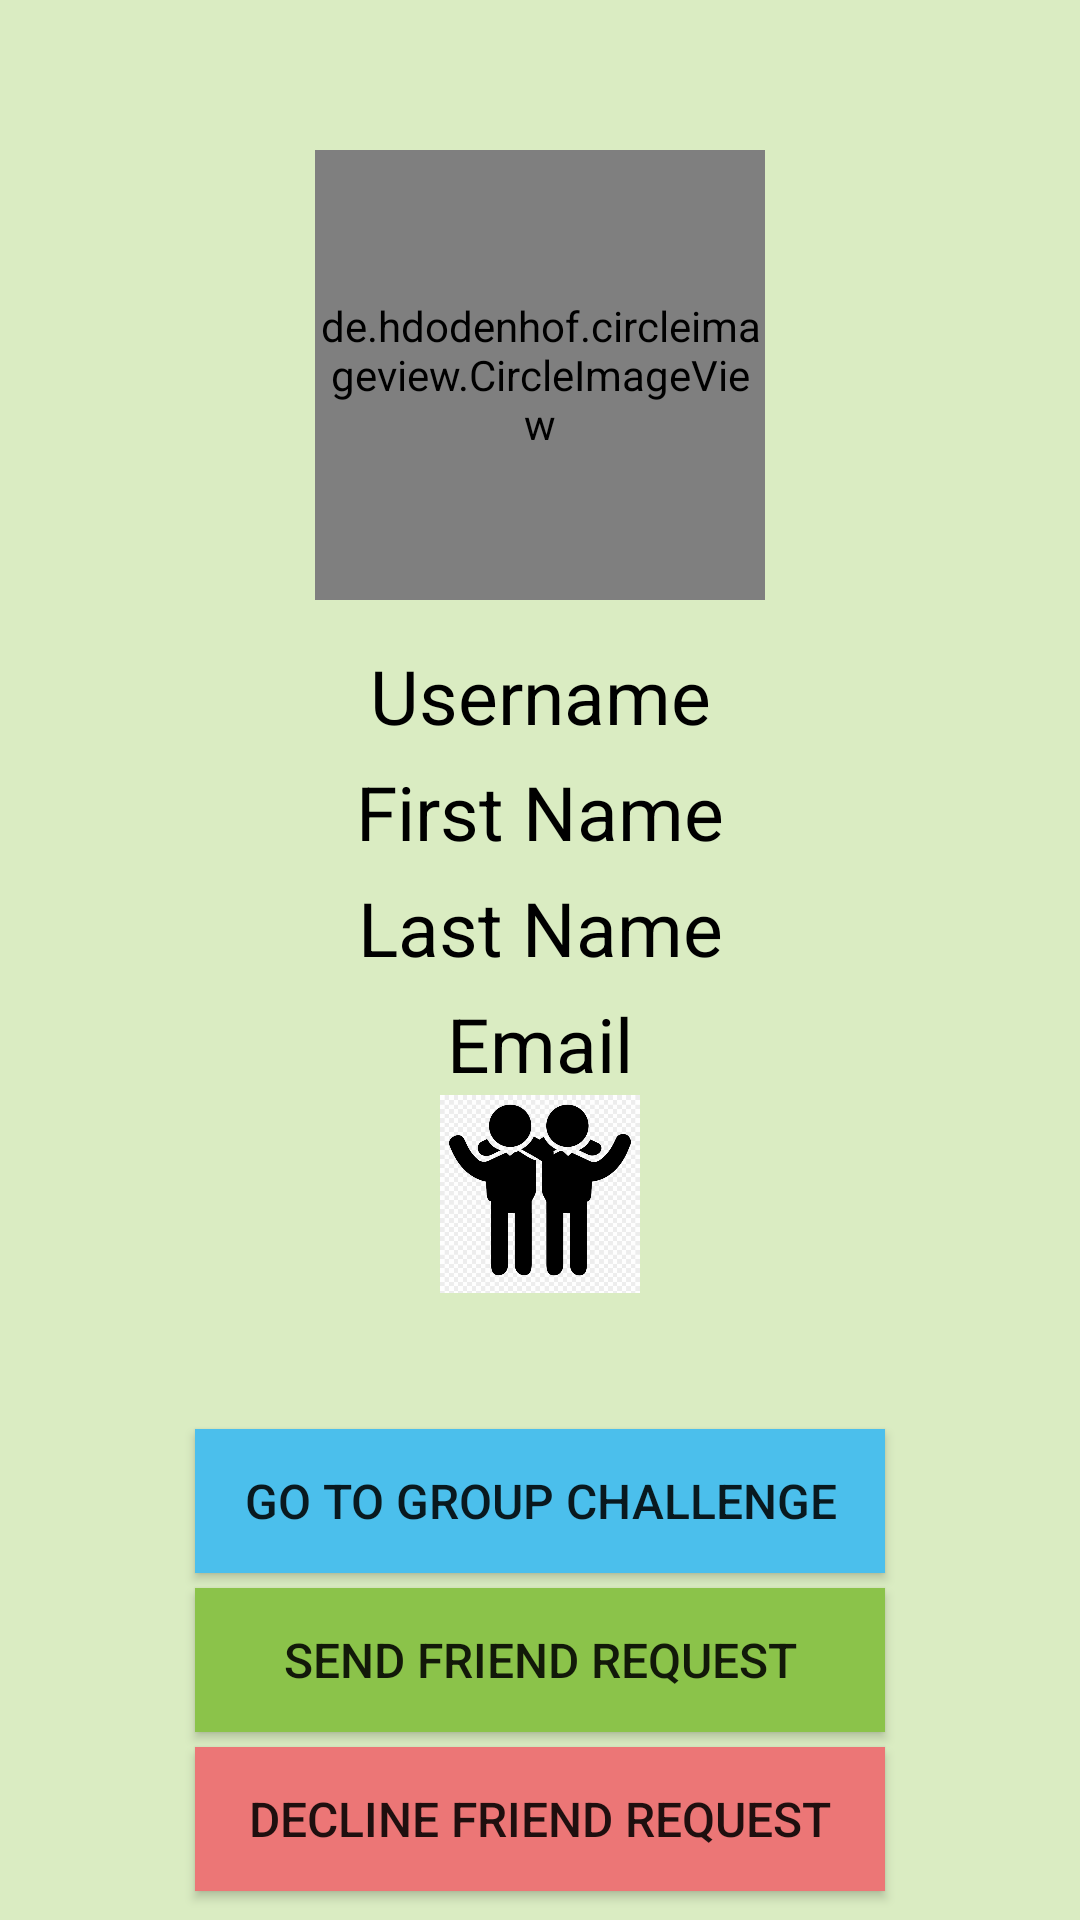

Point at icon controls on the screen. Image size 1080×1920, points as (x,y).
friends: (540,1194)
